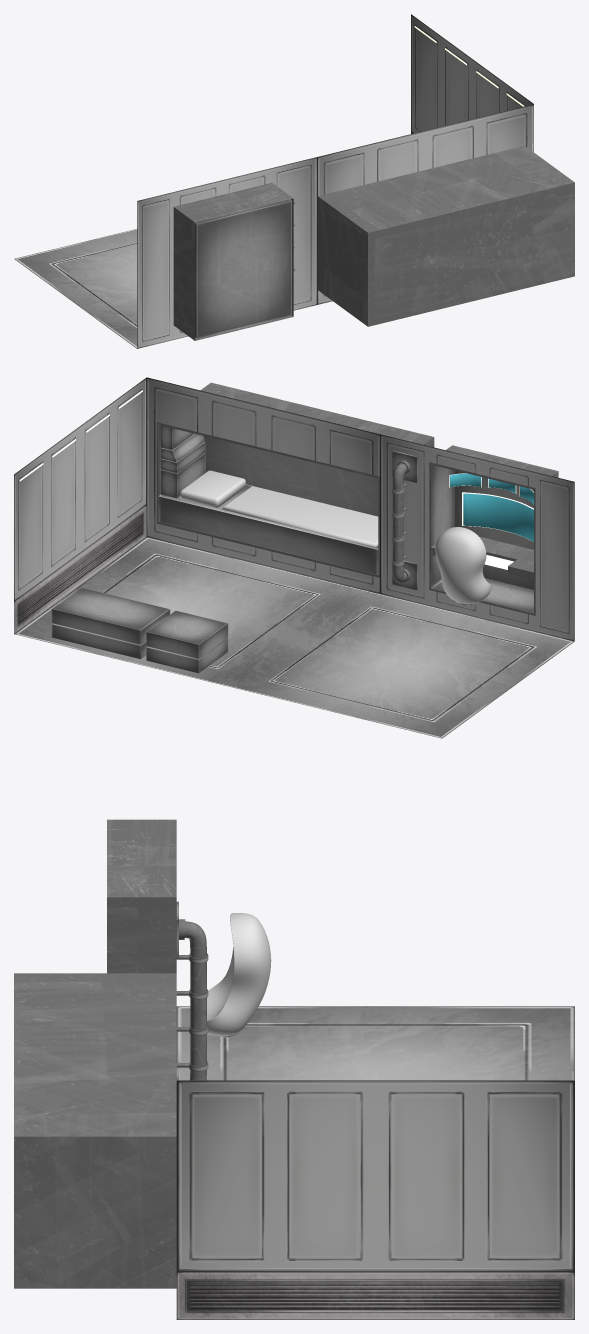
The model's file is Doctor.fbx.
3 views of the same model, one above another, from view 1: azimuth 30°, elevation 25°; view 2: azimuth 150°, elevation 25°; view 3: azimuth 270°, elevation 25° (orthographic). The views are drawn at different scales.
Parts seen in each view (by area): view 1: Parede.013, Parede.011, Parede.010, Parede.012, Chao.008, Parede.009; view 2: Chao.008, Parede.009, Parede.010, Parede.012, Parede.013, Parede.011, BaseCama, Caixa.001, Cobertor, Caixa, Cadeira, Detalhe (+5 smaller); view 3: Parede.009, Parede.013, Chao.008, Parede.011, Cadeira, Tubo, DetalheTubo.
Boxes of the visible parts, x1=… form: Parede.013: x1=318, y1=145, x2=574, y2=326; Parede.011: x1=173, y1=183, x2=293, y2=340; Parede.010: x1=137, y1=157, x2=317, y2=348; Parede.012: x1=318, y1=104, x2=533, y2=304; Chao.008: x1=14, y1=229, x2=137, y2=348; Parede.009: x1=411, y1=14, x2=533, y2=133; Chao.008: x1=14, y1=537, x2=574, y2=738; Parede.009: x1=14, y1=377, x2=146, y2=633; Parede.010: x1=380, y1=434, x2=574, y2=641; Parede.012: x1=146, y1=377, x2=379, y2=593; Parede.013: x1=156, y1=382, x2=434, y2=577; Parede.011: x1=429, y1=445, x2=558, y2=615; BaseCama: x1=158, y1=484, x2=378, y2=574; Caixa.001: x1=51, y1=587, x2=170, y2=659; Cobertor: x1=222, y1=486, x2=378, y2=546; Caixa: x1=146, y1=610, x2=228, y2=673; Cadeira: x1=435, y1=527, x2=491, y2=605; Detalhe: x1=161, y1=425, x2=205, y2=498; Parede.009: x1=176, y1=1080, x2=574, y2=1319; Parede.013: x1=14, y1=973, x2=176, y2=1288; Chao.008: x1=176, y1=1006, x2=574, y2=1080; Parede.011: x1=107, y1=819, x2=176, y2=973; Cadeira: x1=207, y1=913, x2=271, y2=1037; Tubo: x1=179, y1=919, x2=206, y2=1080; DetalheTubo: x1=176, y1=953, x2=208, y2=1071.
Size of the model in its own units: 1689 by 601 by 1277.
